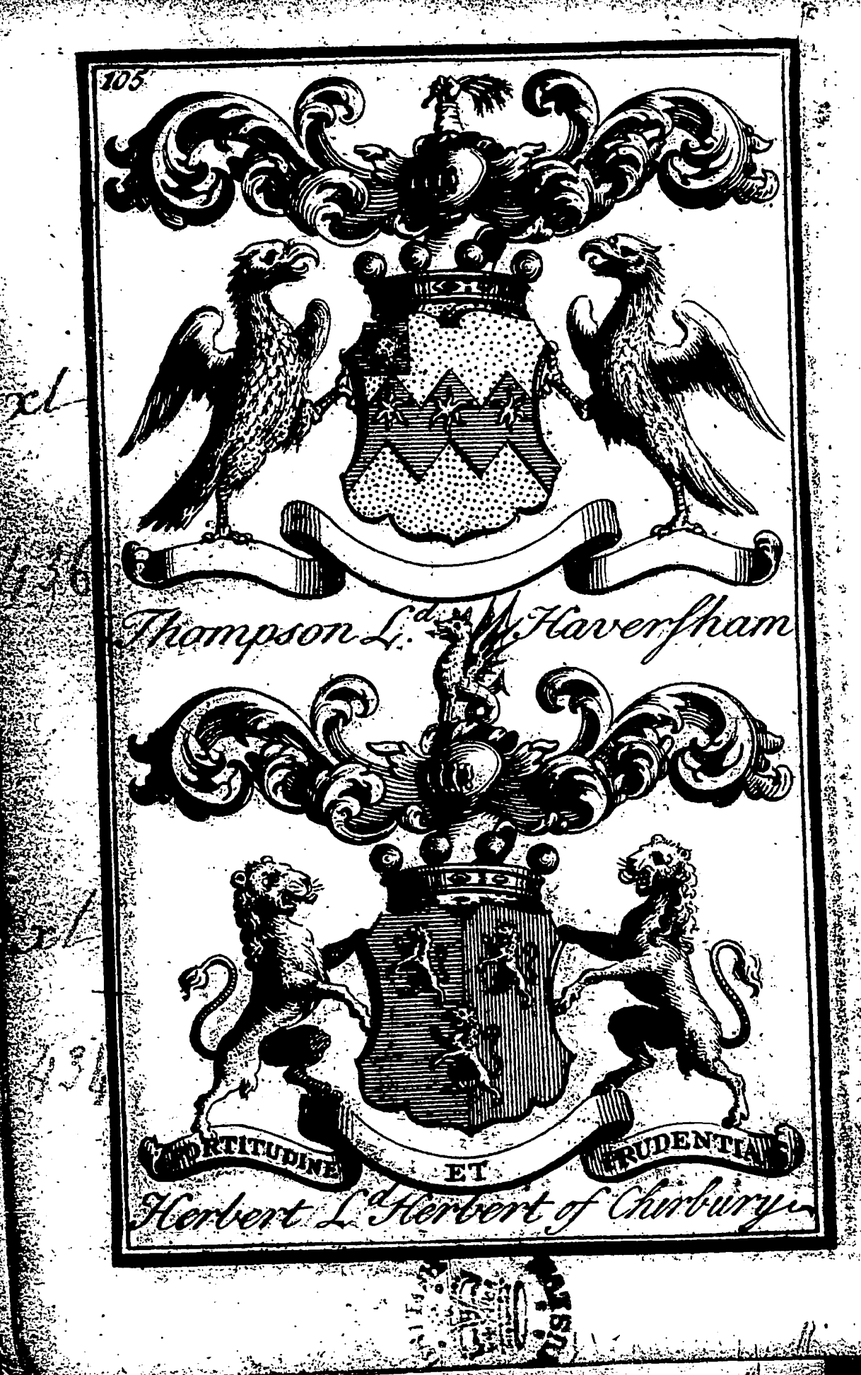coat_of_arms: (126, 642, 818, 1228), (106, 70, 790, 652)
